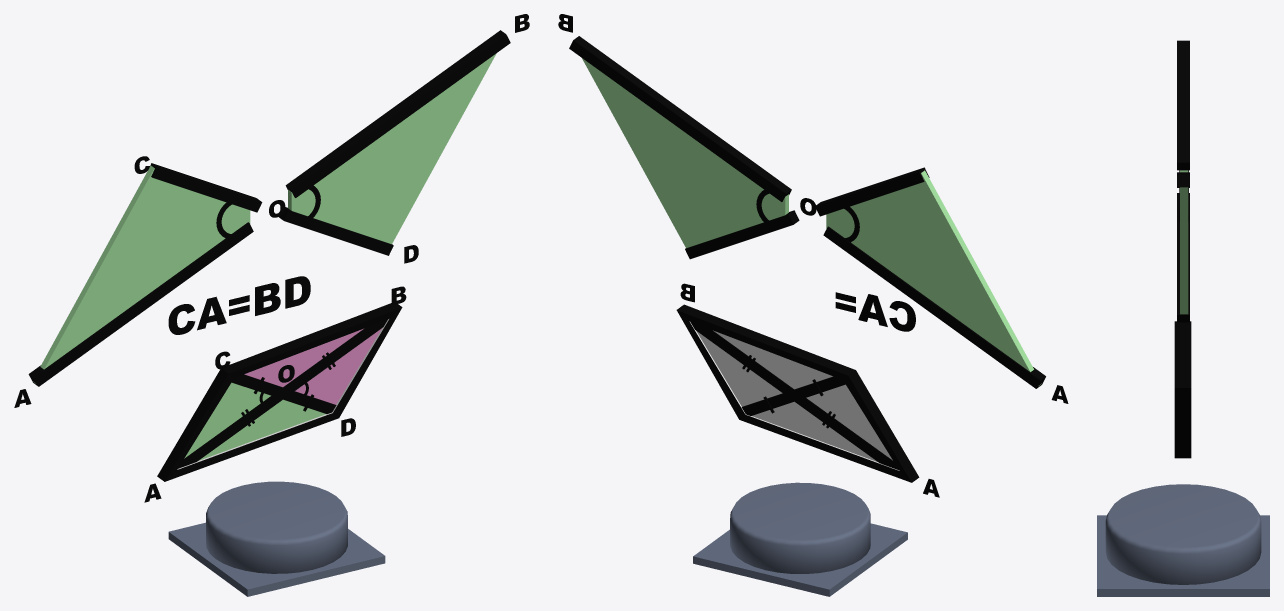
3 renders of one model, left to right at view 1: azimuth 30°, elevation 25°; view 2: azimuth 150°, elevation 25°; view 3: azimuth 270°, elevation 25°, orthographic. The views are drawn at different scales.
Parts seen in each view (by area): view 1: Cube, Cube.001, Cube.015, Cube.014, Cube.013, Cube.012, Text.010, Cube.003, Cube.010, Cube.011, Cube.002; view 2: Cube, Cube.001, Cube.015, Cube.014, Cube.013, Cube.012, Cube.003, Cube.010, Cube.011, Text.010, Cube.002; view 3: Cube, Cube.001, Cube.010, Cube.014, Cube.011.
Part boxes in pixels (x1,y1,x2,y2): Cube: (168, 481, 385, 596); Cube.001: (157, 303, 402, 481); Cube.015: (32, 166, 250, 383); Cube.014: (288, 53, 496, 244); Cube.013: (285, 30, 510, 197); Cube.012: (28, 222, 253, 386); Text.010: (168, 276, 310, 334); Cube.003: (178, 319, 387, 468); Cube.010: (150, 163, 262, 212); Cube.011: (279, 207, 393, 255); Cube.002: (231, 374, 336, 414); Cube: (693, 482, 907, 596); Cube.001: (676, 304, 919, 482); Cube.015: (826, 170, 1041, 385); Cube.014: (582, 58, 788, 248); Cube.013: (569, 36, 791, 201); Cube.012: (823, 226, 1045, 388); Cube.003: (690, 322, 898, 470); Cube.010: (815, 167, 929, 216); Cube.011: (685, 210, 799, 259); Text.010: (835, 292, 915, 331); Cube.002: (741, 376, 845, 415); Cube: (1097, 484, 1269, 596); Cube.001: (1174, 321, 1191, 458); Cube.010: (1177, 40, 1189, 170); Cube.014: (1180, 187, 1188, 314); Cube.011: (1177, 193, 1189, 322).
Bounding box in the file's own units: 34.18 × 30.46 × 9.09.
